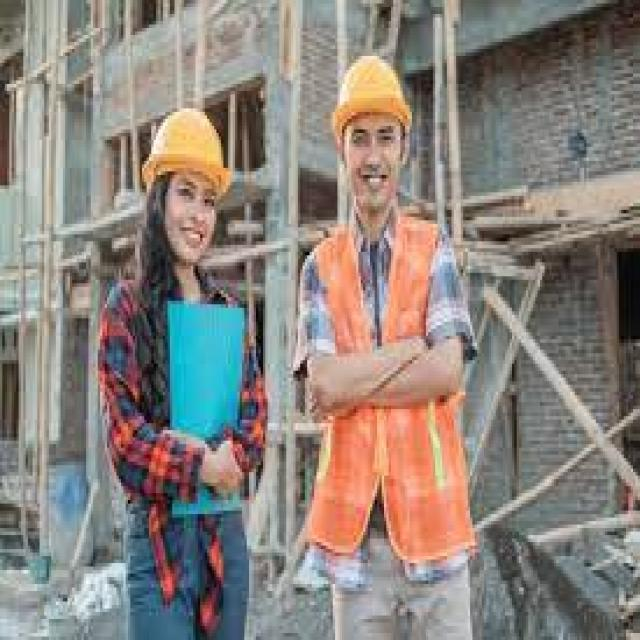safetyhelmet: (141, 95, 234, 231), (334, 52, 414, 190)
